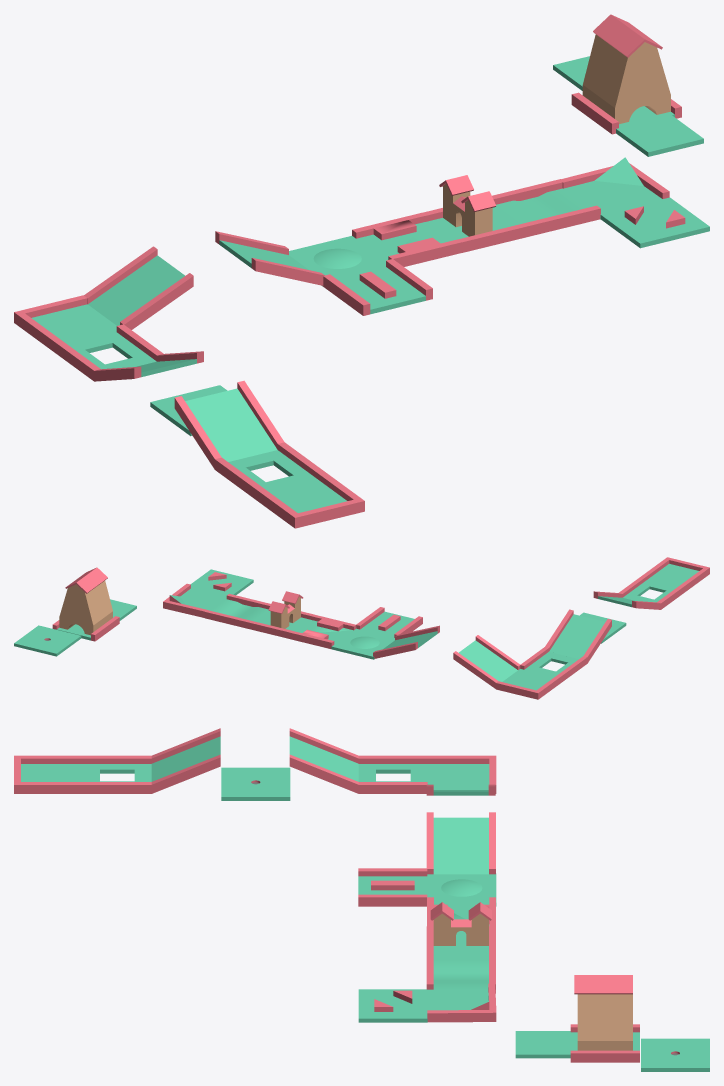
Rendered from Course3.fbx.
3 renders of one model, top to bottom at view 1: azimuth 30°, elevation 25°; view 2: azimuth 150°, elevation 25°; view 3: azimuth 270°, elevation 25°, orthographic. The views are drawn at different scales.
Parts seen in each view (by area): view 1: end; view 2: end; view 3: end.
Boxes of the visible parts, left/top/right/bottom form: end: left=14, top=14, right=709, bottom=528; end: left=14, top=557, right=709, bottom=699; end: left=14, top=728, right=709, bottom=1071.
Size of the model in its own units: 1052 by 117 by 1007.
